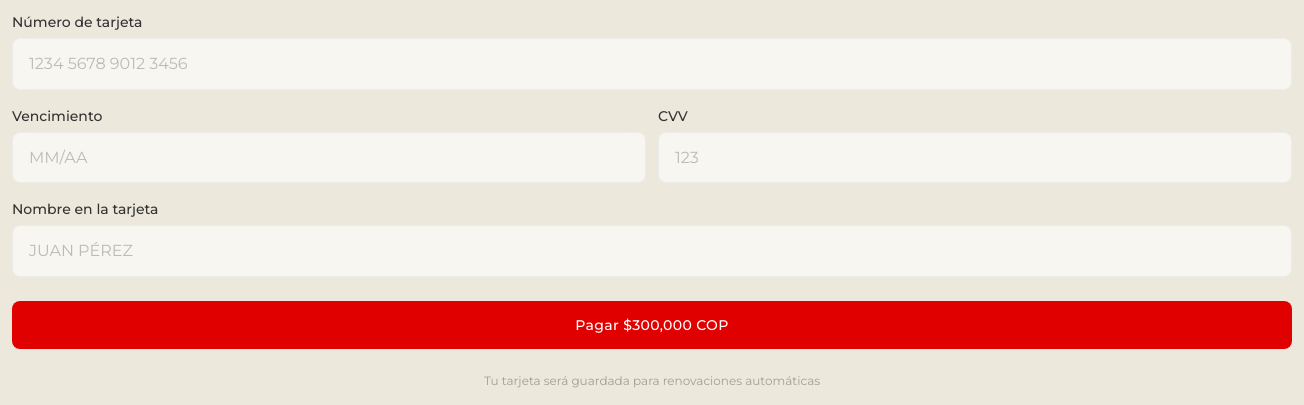
Test: CardPaymentForm › formats expiry with slash separator
The width and height of the screenshot is (1304, 405).
Step 1. Type "1228" into the field labelled "Vencimiento" → (329, 157), box [12,132,646,183]
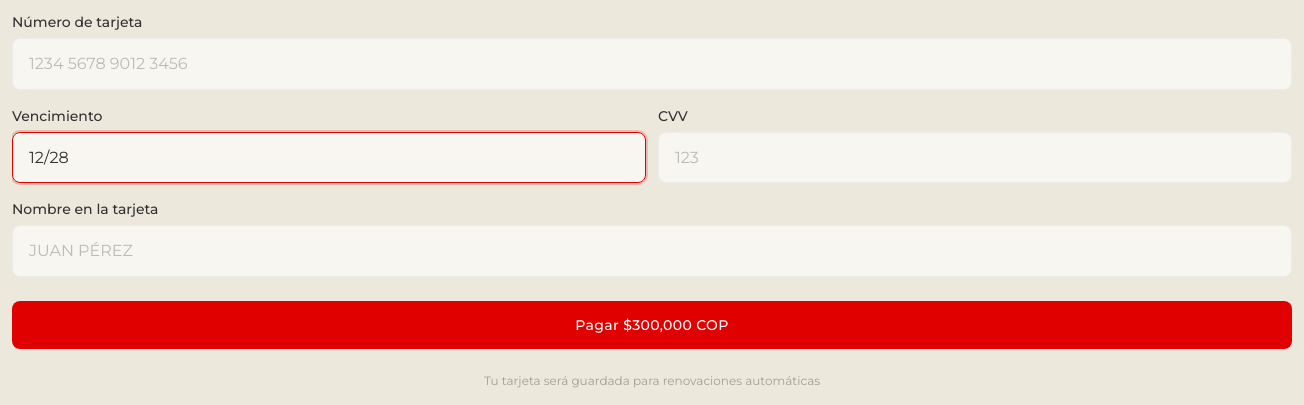
Result: the field labelled "Vencimiento" holds "12/28" at [12,132,646,183]
